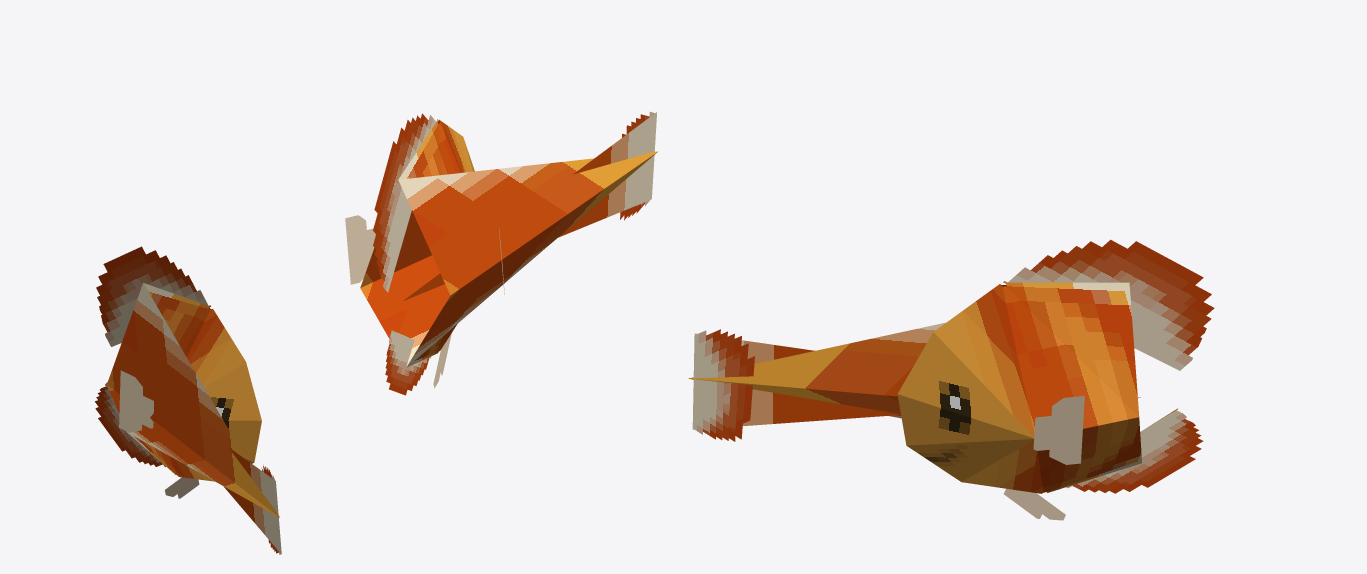
Rendered from fish_a.glb.
3 views of the same model, side by side, from view 1: azimuth 30°, elevation 25°; view 2: azimuth 150°, elevation 25°; view 3: azimuth 270°, elevation 25° (orthographic). The views are drawn at different scales.
Visible parts, largest first — view 1: fish_a; view 2: fish_a; view 3: fish_a.
Boxes of the visible parts, x1,y1,x2,y2 form: fish_a: (95, 246, 281, 554); fish_a: (345, 112, 657, 395); fish_a: (688, 239, 1214, 520).
Bounding box in the file's own units: 6.15 × 21.78 × 23.32.
Materials: 1 (1 with a texture image).
